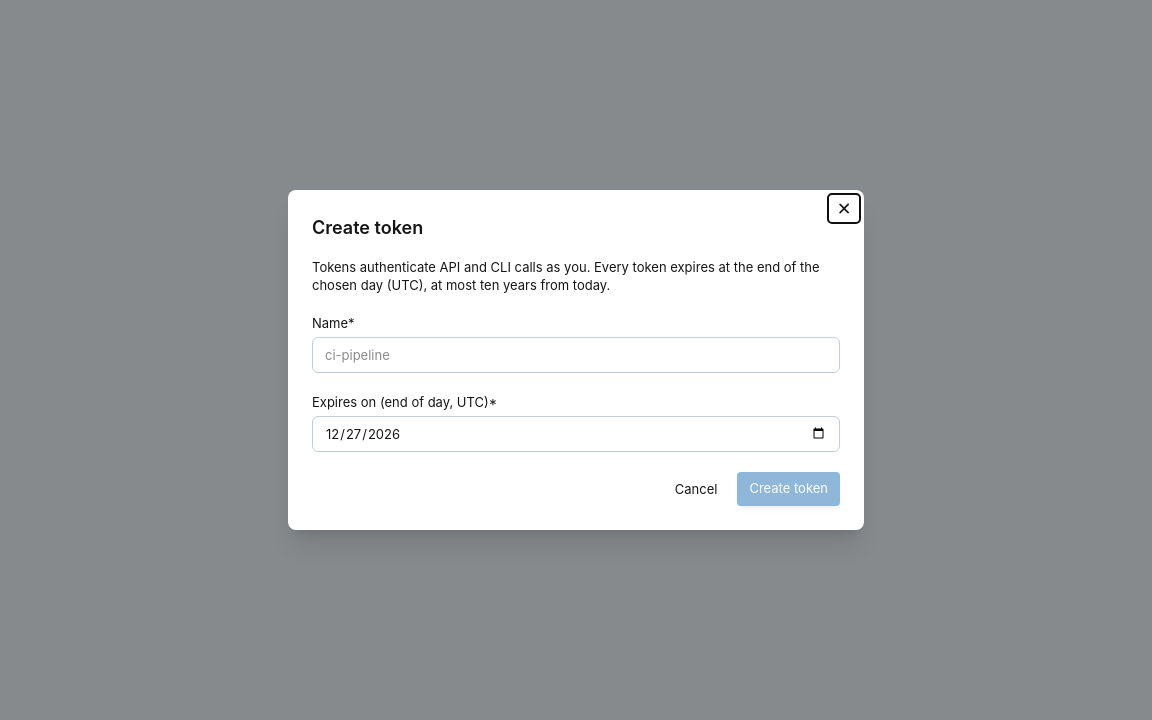
Test: CreateUserTokenModal › reports a failed copy when the clipboard API is unavailable
In the field labelled "Name*": {"x": 576, "y": 355} [312, 337, 840, 373], type "ci"
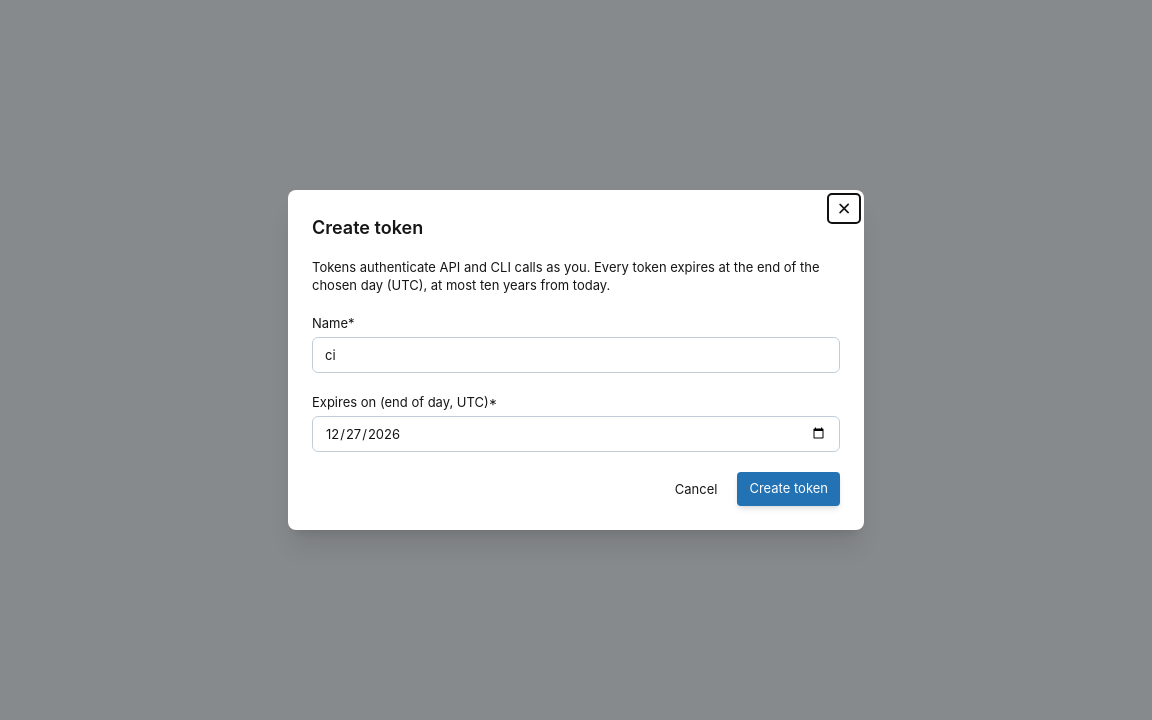
In the date field labelled "Expires on (end of day, UTC)*": {"x": 576, "y": 434} [312, 416, 840, 452], type "2026-10-31"
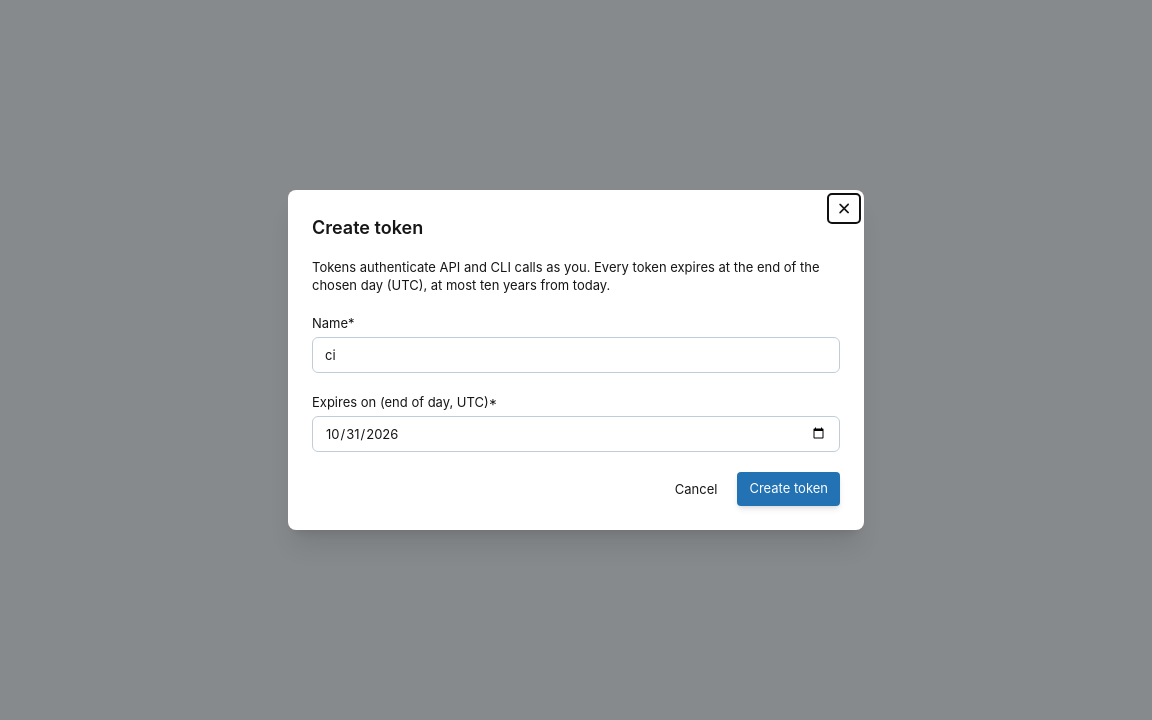
Click the button "Create token": {"x": 789, "y": 489} [737, 472, 840, 506]
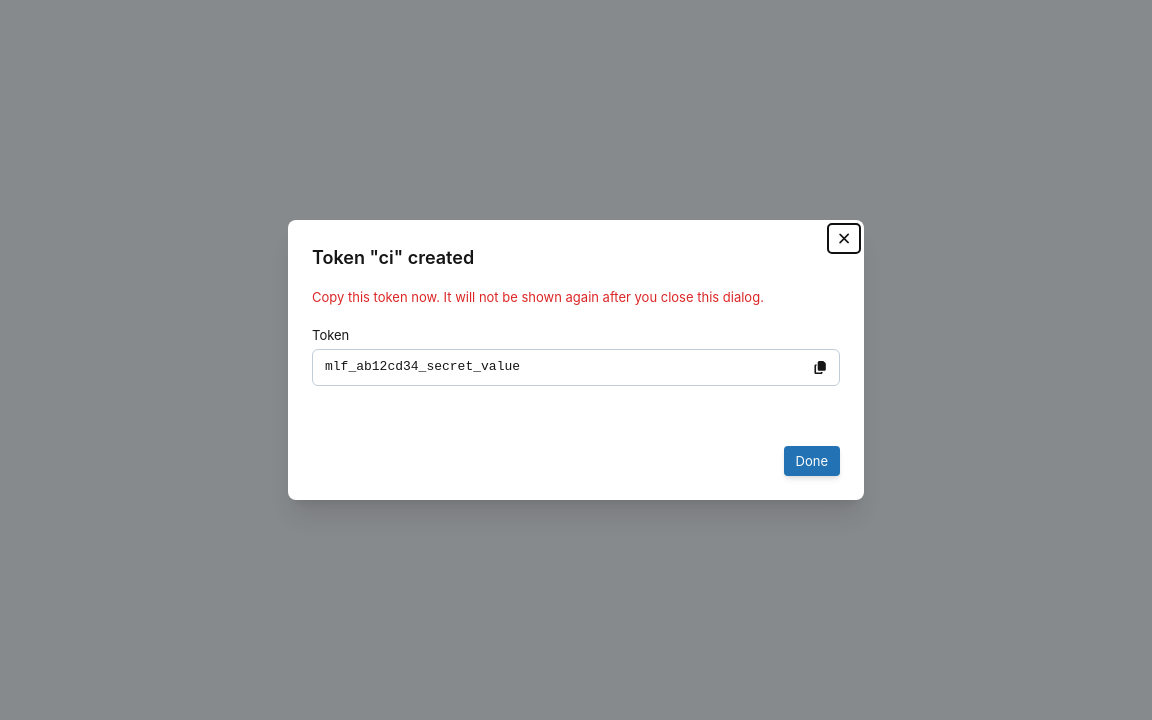
Click the button named "Copy token": {"x": 820, "y": 367} [804, 353, 836, 382]
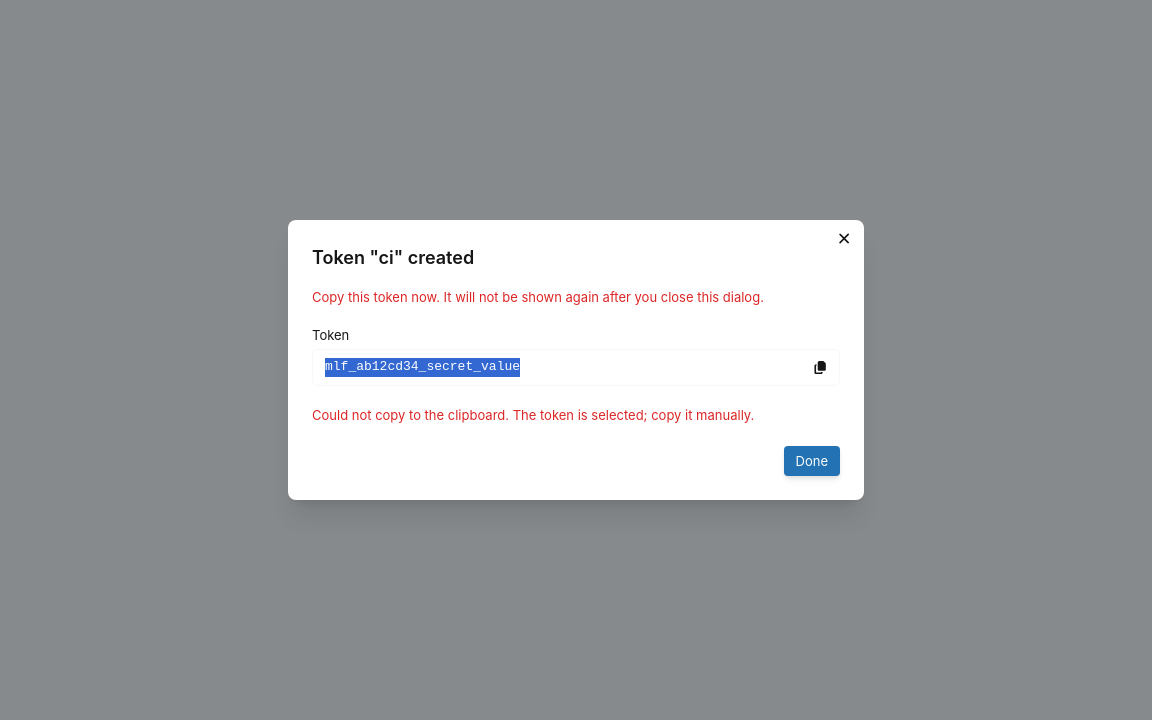
Expected: the message shows "Could not copy to the clipboard", [312, 407, 754, 423]
